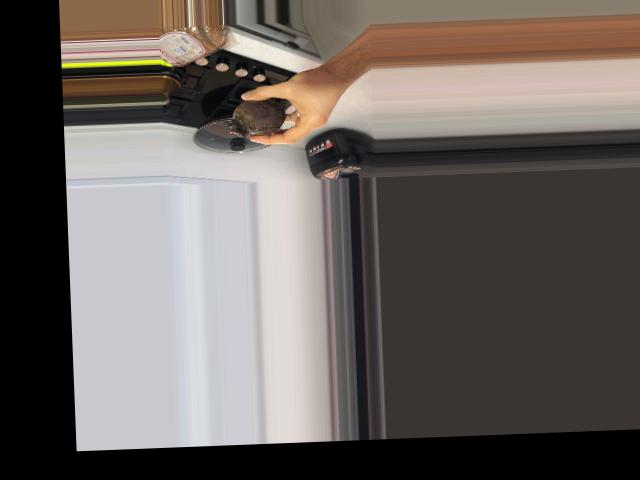beet: (227, 98, 289, 136)
